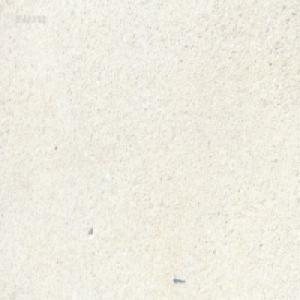Nail: (172, 274, 185, 282)
